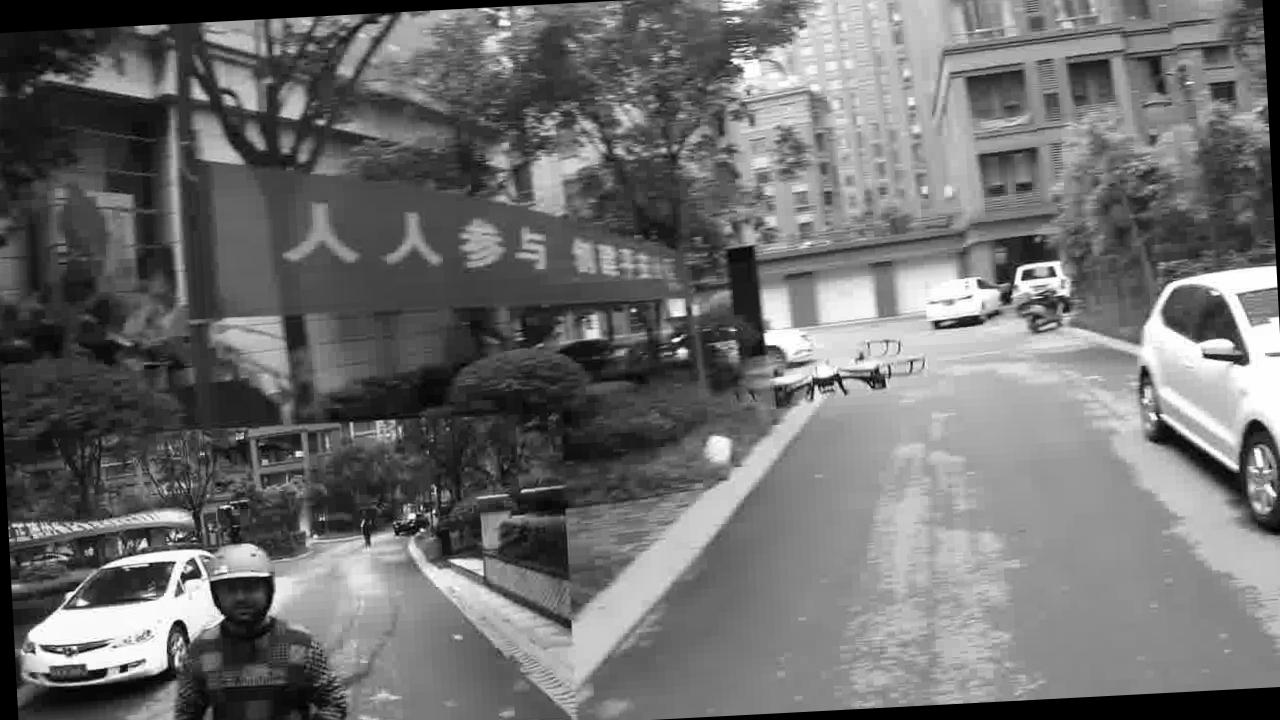drone: (746, 314, 938, 408)
